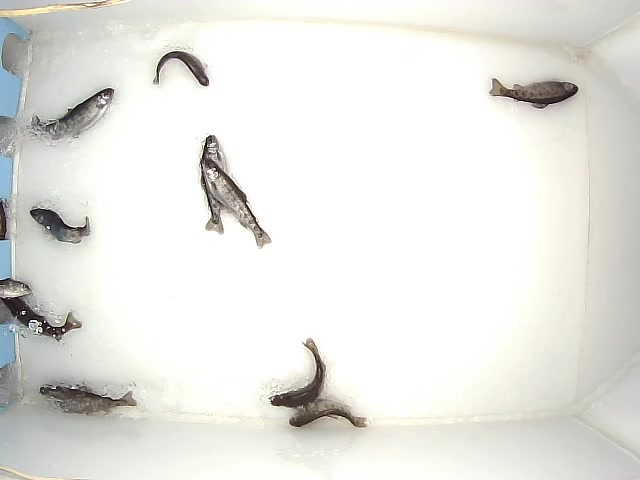fish: (200, 156, 271, 249), (29, 87, 116, 141), (267, 336, 327, 410), (486, 73, 581, 114), (40, 382, 138, 416), (27, 202, 91, 247), (199, 132, 227, 234), (286, 396, 369, 430), (146, 47, 211, 87)
